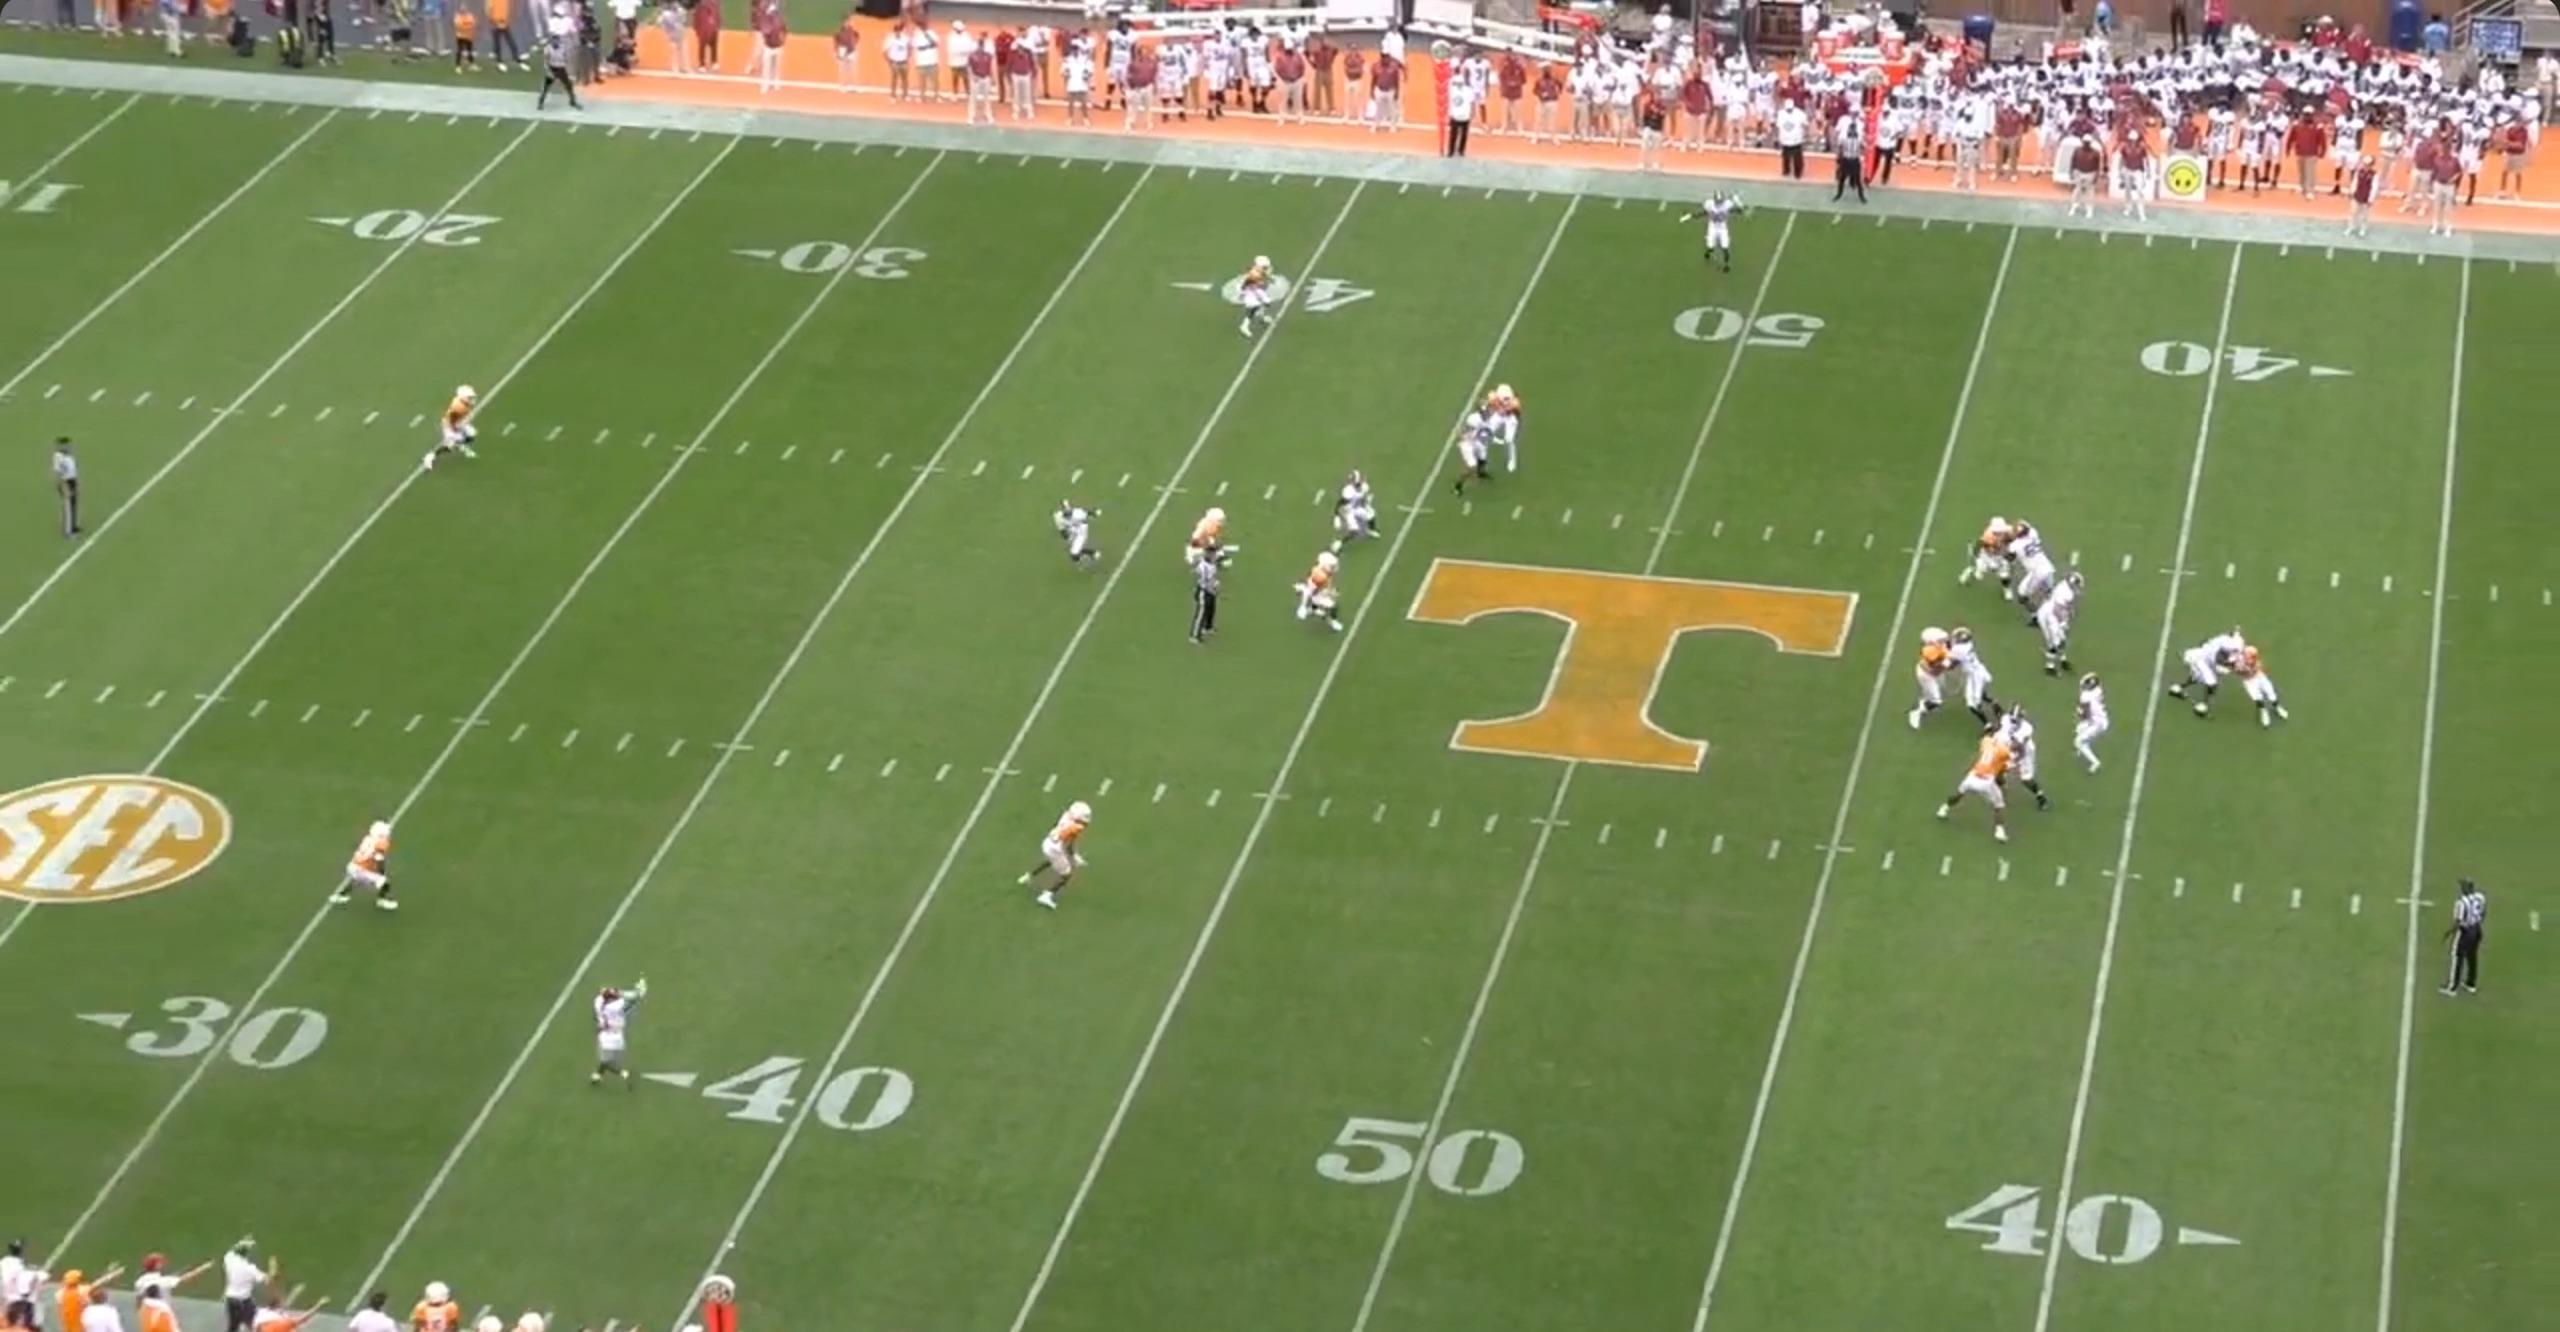player: (1017, 796, 1099, 915), (1939, 738, 2020, 854), (1972, 710, 2046, 820), (2166, 620, 2248, 719), (590, 979, 653, 1093), (2219, 633, 2289, 735), (337, 820, 408, 920), (1940, 625, 2003, 732), (2028, 564, 2083, 680), (423, 379, 491, 471), (1905, 626, 1960, 739), (2005, 516, 2057, 631), (2066, 672, 2117, 783), (1323, 466, 1381, 556), (1691, 186, 1745, 280), (1454, 400, 1506, 496), (1290, 552, 1346, 640), (1470, 376, 1521, 472), (1953, 510, 2013, 591), (1177, 504, 1233, 582), (1229, 253, 1279, 340), (1052, 497, 1107, 576)
ref: (2442, 873, 2498, 1001), (0, 1235, 54, 1332), (1824, 114, 1877, 211), (1187, 541, 1233, 649), (531, 27, 584, 117), (51, 435, 92, 546)
